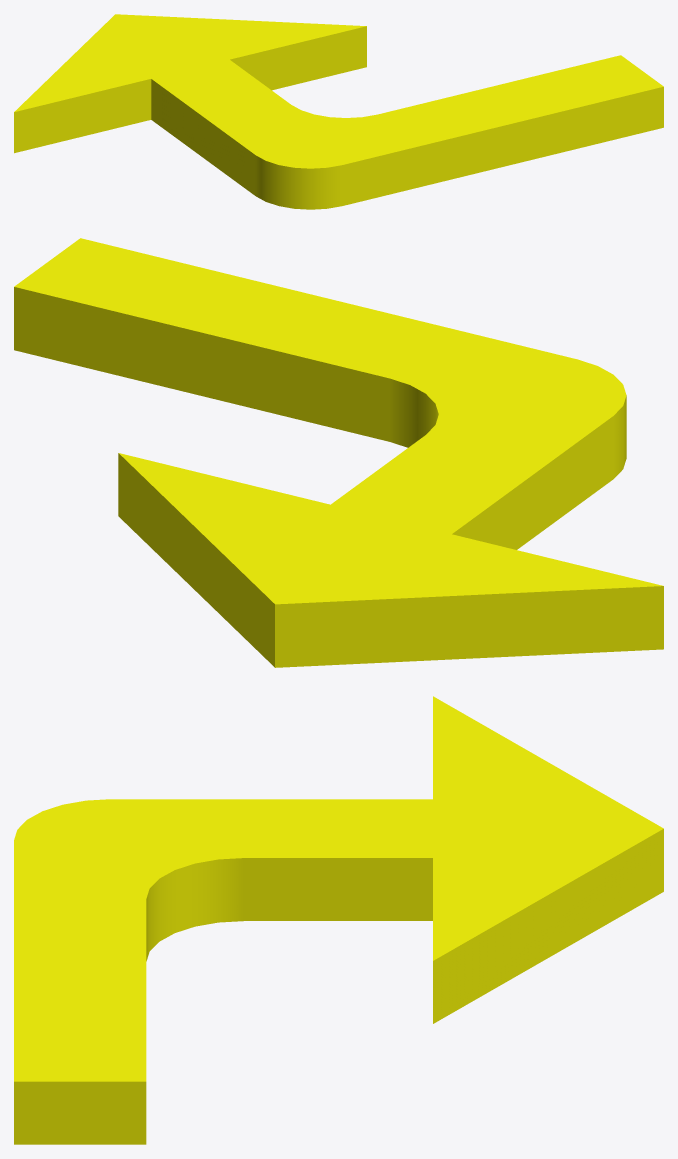
The model's file is 黄色右转箭头.FBX.
3 views of the same model, one above another, from view 1: azimuth 30°, elevation 25°; view 2: azimuth 150°, elevation 25°; view 3: azimuth 270°, elevation 25° (orthographic). The views are drawn at different scales.
Parts seen in each view (by area): view 1: *SOL462; view 2: *SOL462; view 3: *SOL462.
Boxes of the visible parts, x1=… form: *SOL462: x1=14, y1=14, x2=663, y2=209; *SOL462: x1=14, y1=238, x2=663, y2=667; *SOL462: x1=14, y1=696, x2=663, y2=1144.
Bounding box in the file's own units: 2.58 × 0.1969 × 1.84.
